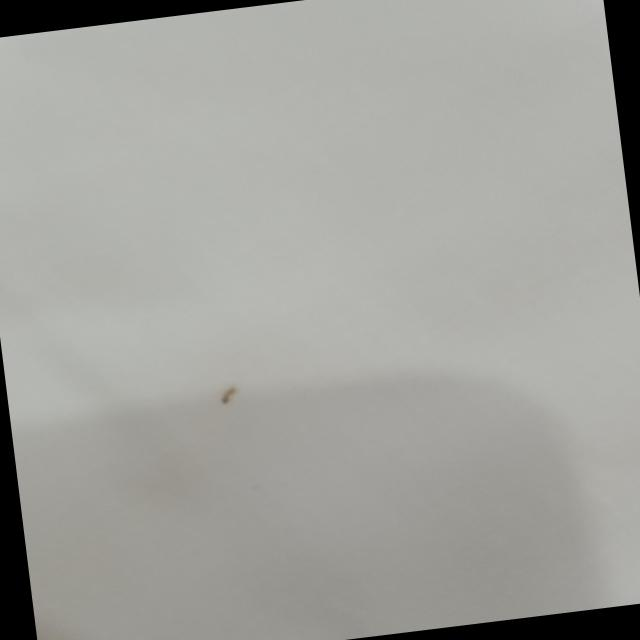stain: (204, 376, 256, 418)
